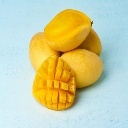mango: (31, 54, 76, 111), (43, 9, 94, 54)
